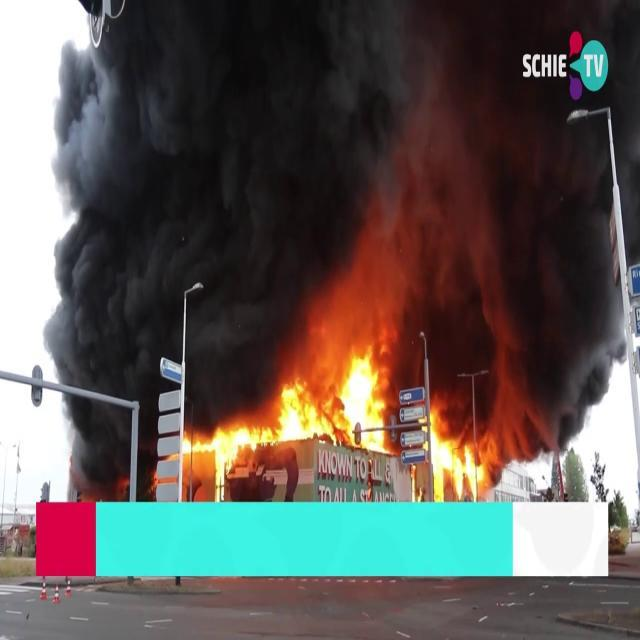Fire: (268, 336, 390, 448), (424, 398, 502, 501), (181, 414, 261, 492)
Smoke: (22, 1, 638, 354)
